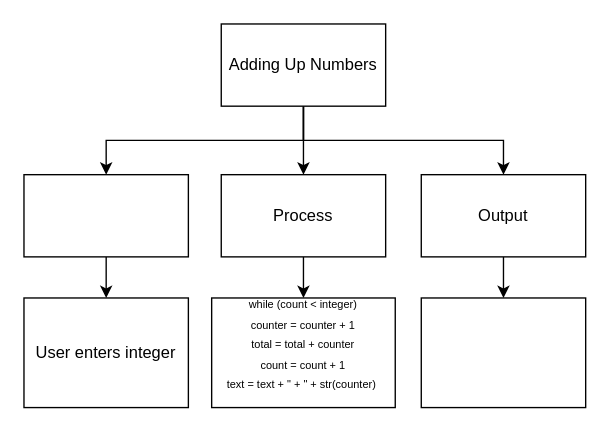
This 610x436 diagram has some shape labels left out. The centre of each missing label's shape, as x and y in pixels:
"Input" belongs at (105,215).
"Show answer" belongs at (503,352).
